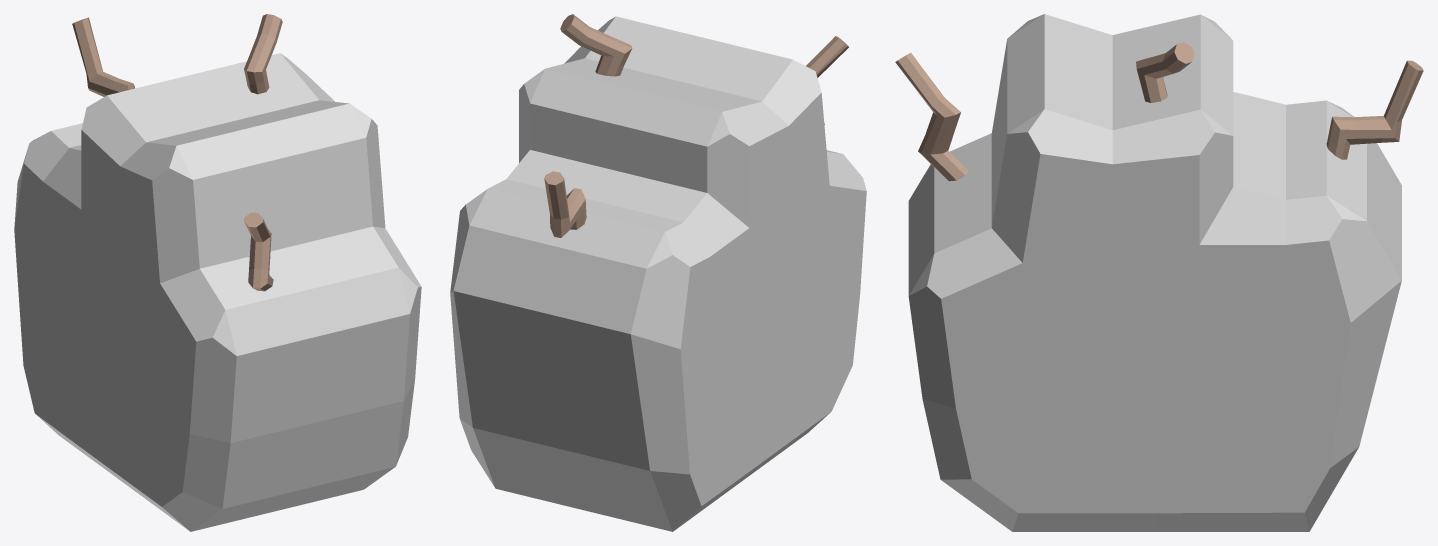
The model's file is Ice bush.fbx.
The picture shows the model from 3 angles, left to right: view 1: azimuth 30°, elevation 25°; view 2: azimuth 150°, elevation 25°; view 3: azimuth 270°, elevation 25°; orthographic projection. The views are drawn at different scales.
Parts seen in each view (by area): view 1: Cube, Cube.001; view 2: Cube, Cube.001; view 3: Cube, Cube.001.
Part boxes in pixels (bbox=[...]): Cube: bbox=[14, 53, 421, 531]; Cube.001: bbox=[72, 14, 282, 291]; Cube: bbox=[450, 16, 866, 531]; Cube.001: bbox=[544, 14, 848, 237]; Cube: bbox=[908, 14, 1401, 531]; Cube.001: bbox=[895, 42, 1423, 181].
Bounding box in the file's own units: 200 × 361 × 361.
